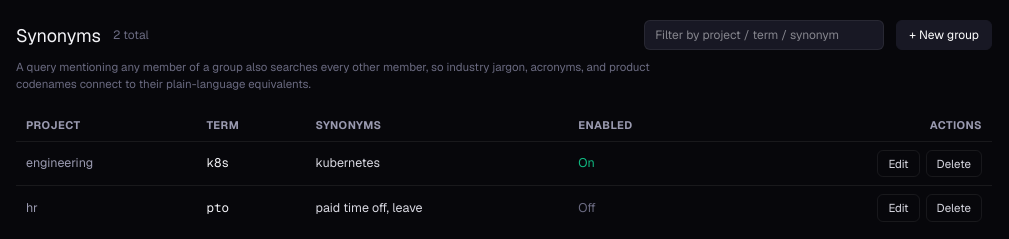
SynonymsList › filters rows across project / term / synonym
The width and height of the screenshot is (1009, 239).
Expected: the row with test id "admin-synonym-row-1" is shown, x1=16 y1=142 x2=992 y2=186
Note: 'leave' is a synonym of row 2 only.
Type "leave" into the field with test id "admin-synonyms-filter" at (764, 35), box x1=644 y1=20 x2=884 y2=50
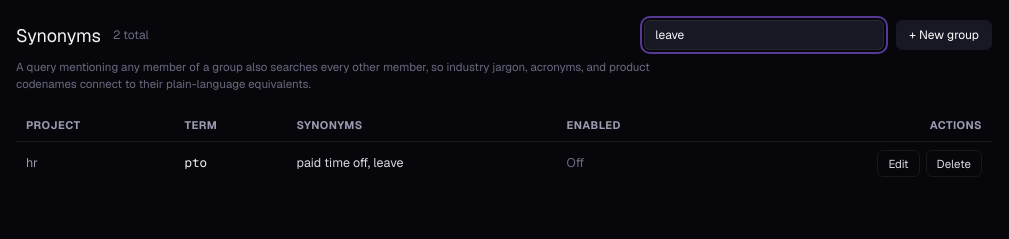
Expected: the row with test id "admin-synonym-row-2" is shown, x1=16 y1=142 x2=992 y2=185
Result: the row with test id "admin-synonym-row-1" is gone
